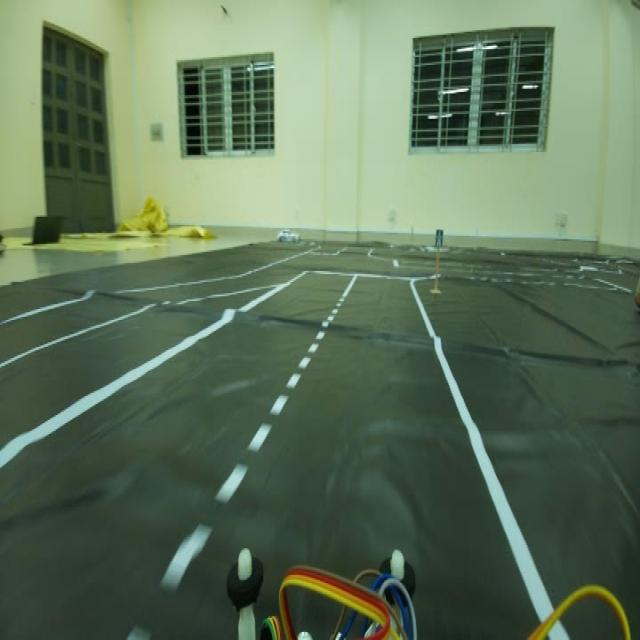highway_entry: (434, 224, 446, 251)
